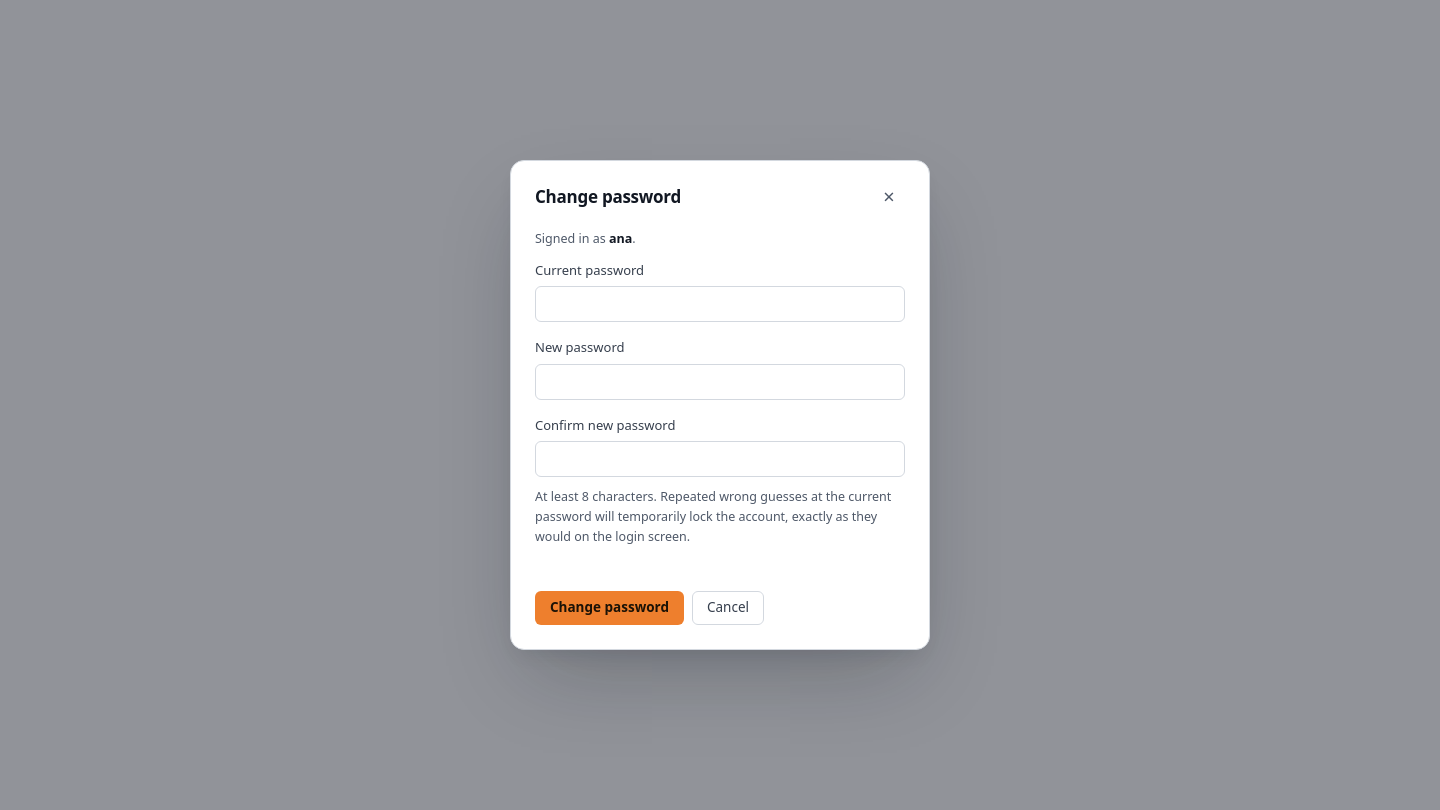
Test: ChangePasswordModal — the rules, before anything is sent › refuses a new password that is too short
The width and height of the screenshot is (1440, 810).
In the 1st password field: (720, 304) [535,286,905,322], type "oldpassword"
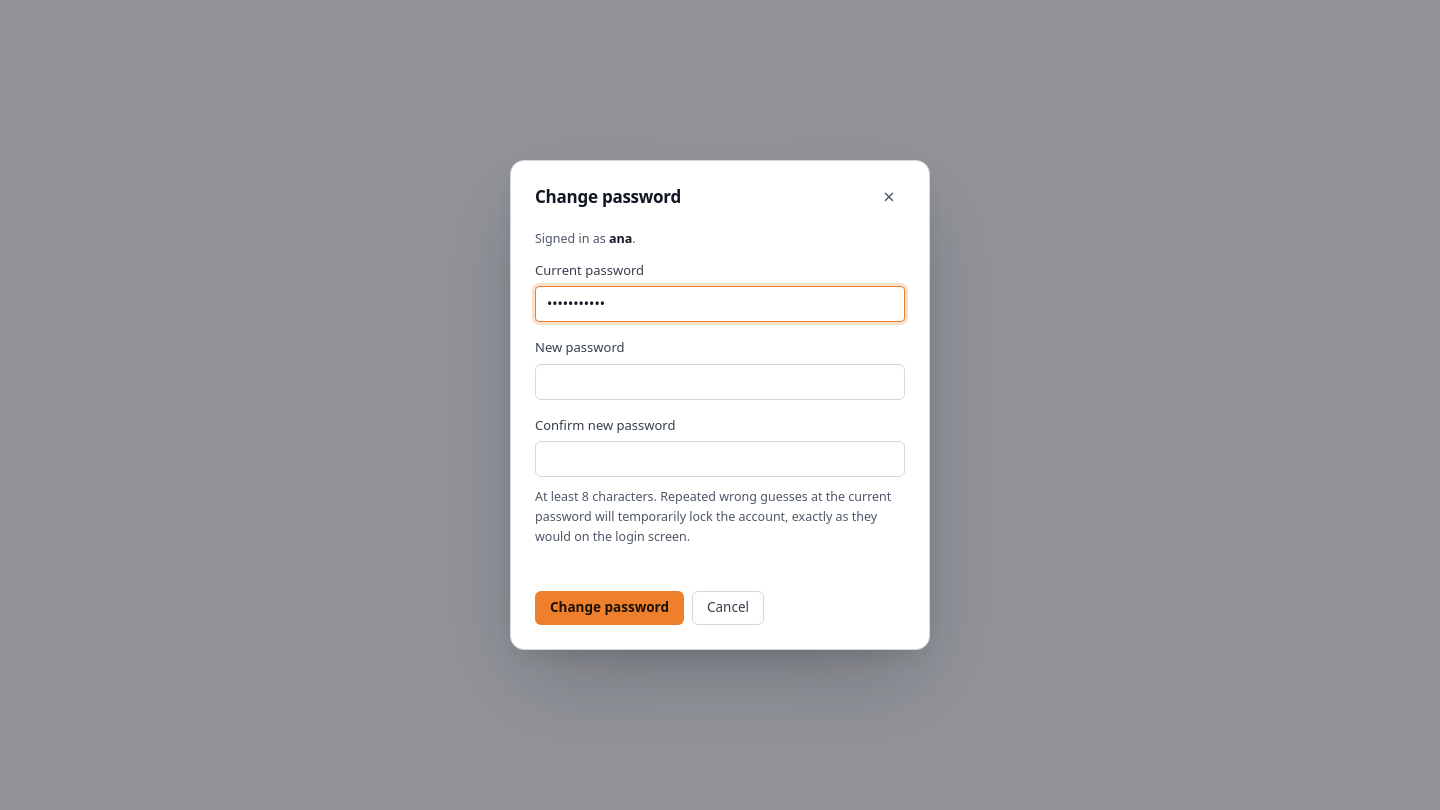
In the 2nd password field: (720, 382) [535,364,905,400], type "short"
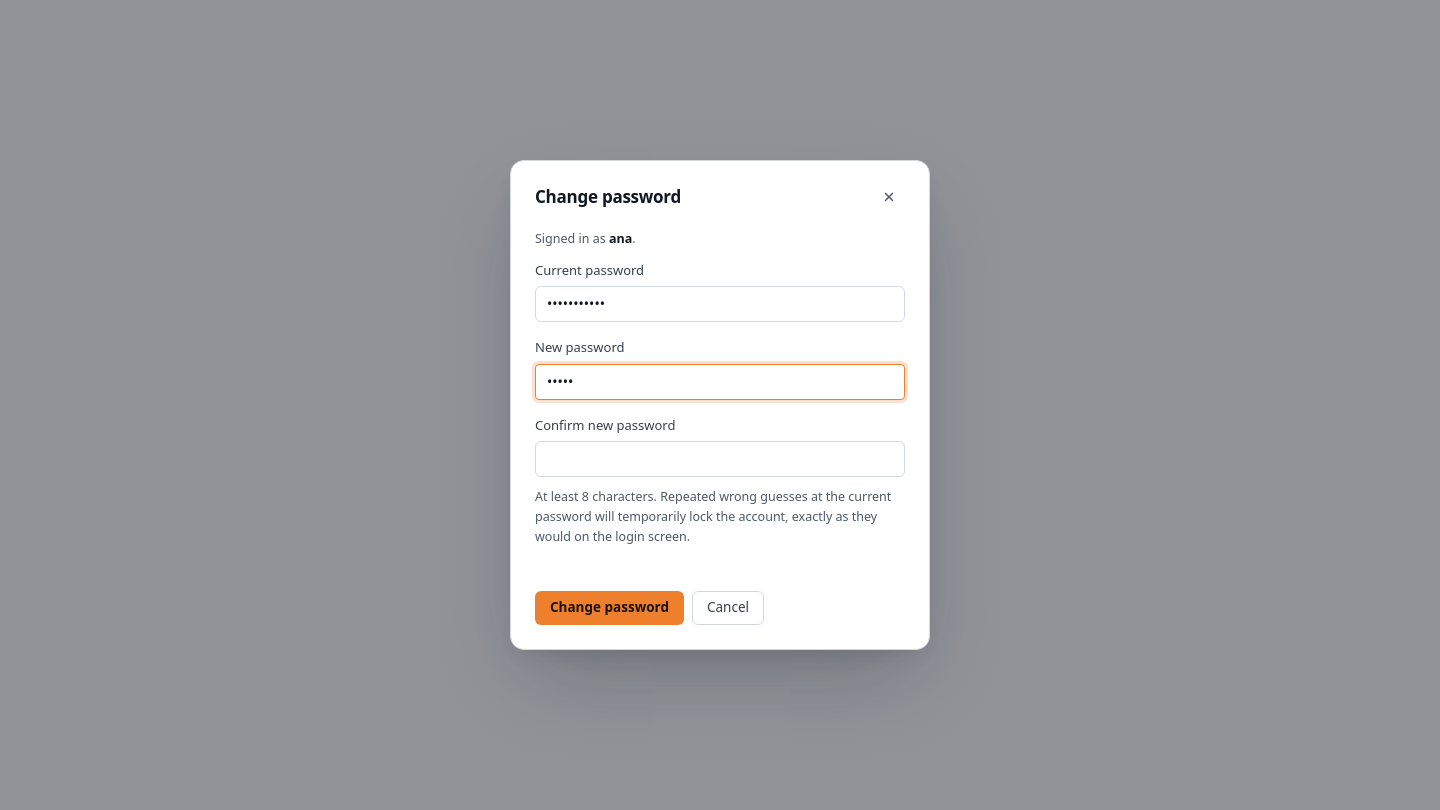
In the password field below "Confirm new password": (720, 459) [535,441,905,477], type "short"
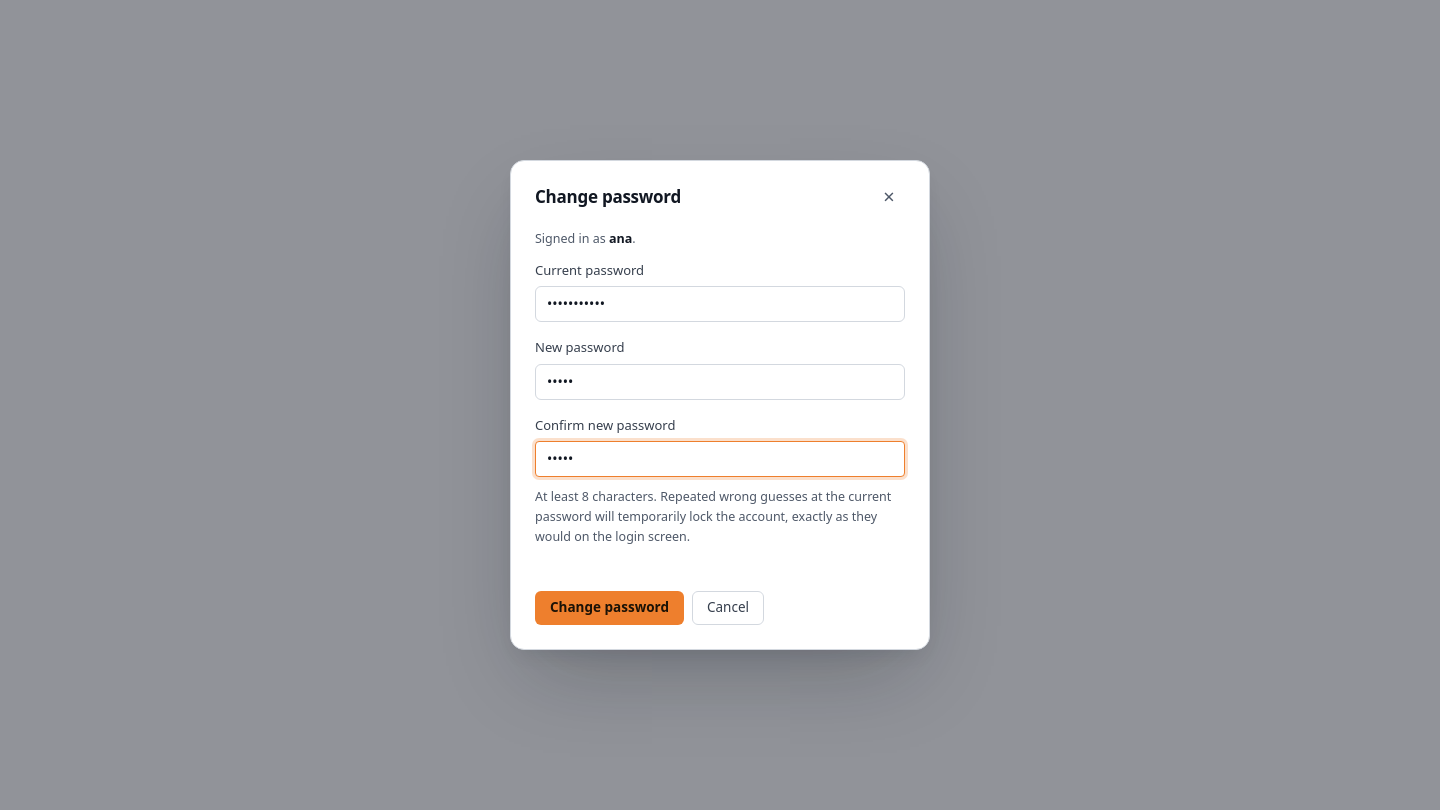
Click the button "Change password": (610, 608) [535,591,684,625]
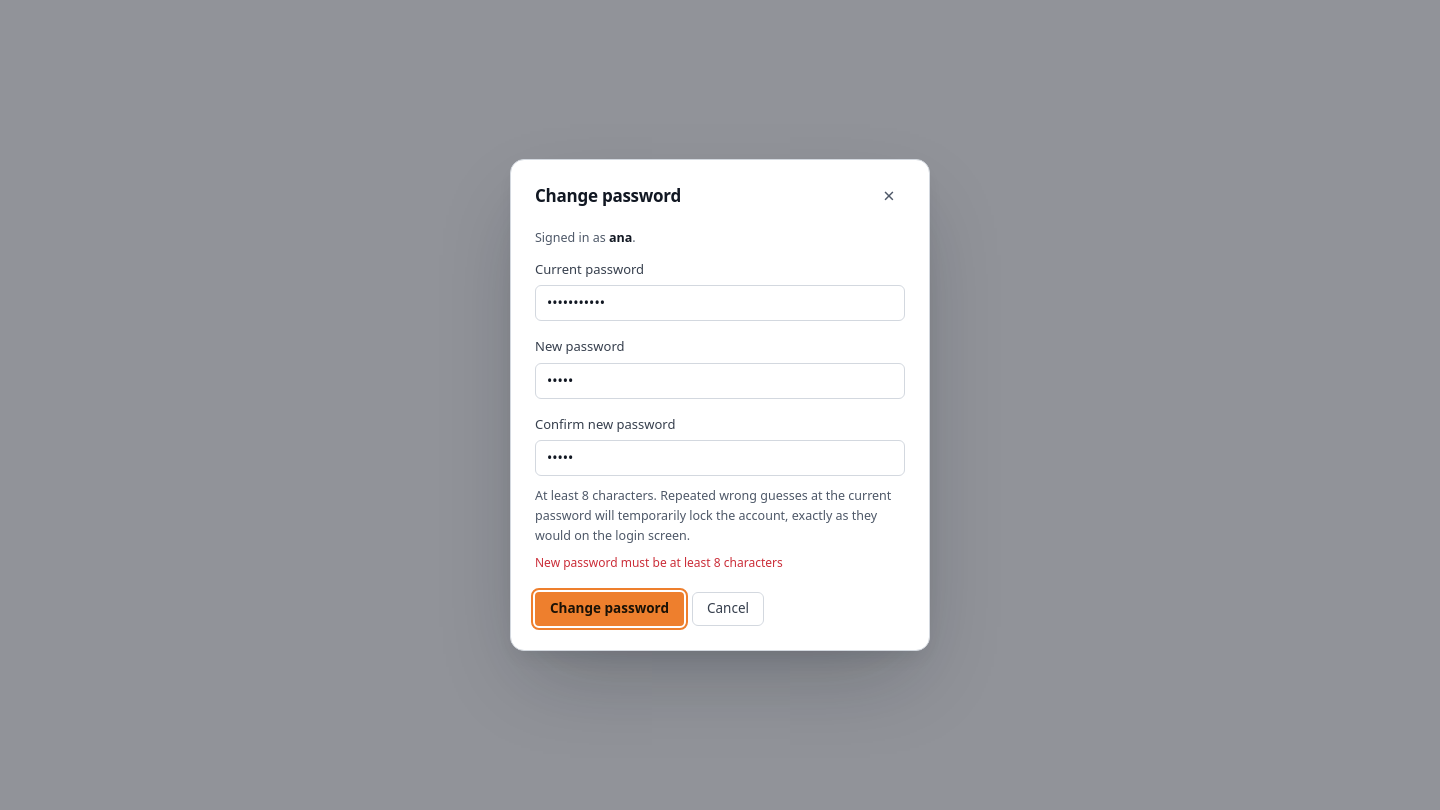
Now the text "New password must be at least 8 characters" is shown, box [535,554,783,571]
